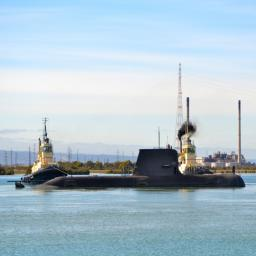submarine: (44, 151, 247, 189)
